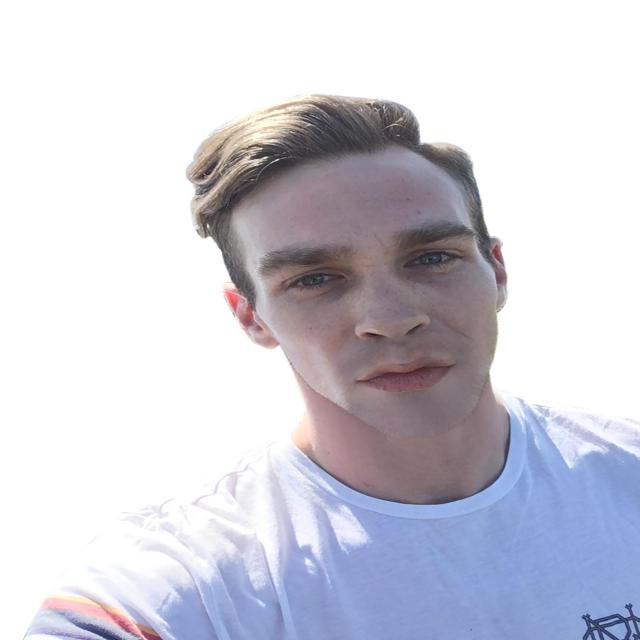mobile_phonerotation: (21, 92, 638, 638)
